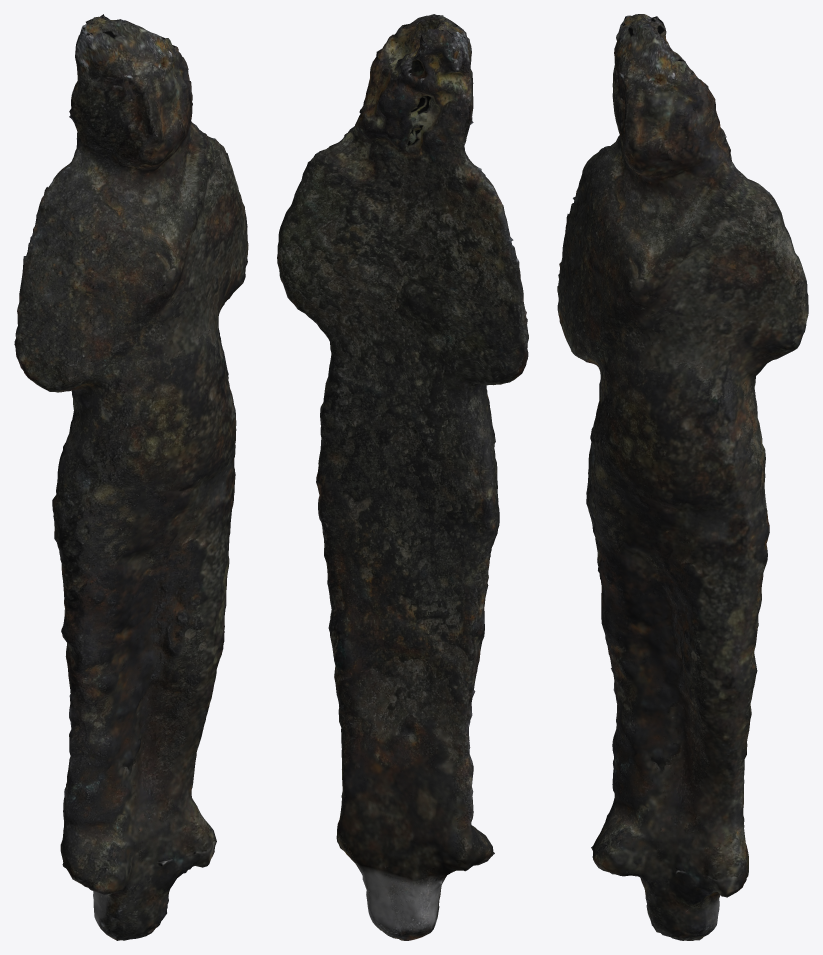
File: 2bronze_votive.glb
The picture shows the model from 3 angles, left to right: view 1: azimuth 30°, elevation 25°; view 2: azimuth 150°, elevation 25°; view 3: azimuth 330°, elevation 25°; orthographic projection.
Visible parts, largest first — view 1: Object_2; view 2: Object_2; view 3: Object_2.
Part boxes in pixels (bbox=[...]): Object_2: bbox=[14, 14, 248, 940]; Object_2: bbox=[277, 14, 528, 940]; Object_2: bbox=[557, 14, 808, 940].
Bounding box in the file's own units: 0.0178 × 0.0653 × 0.00677.
1 material, 1 textured.
